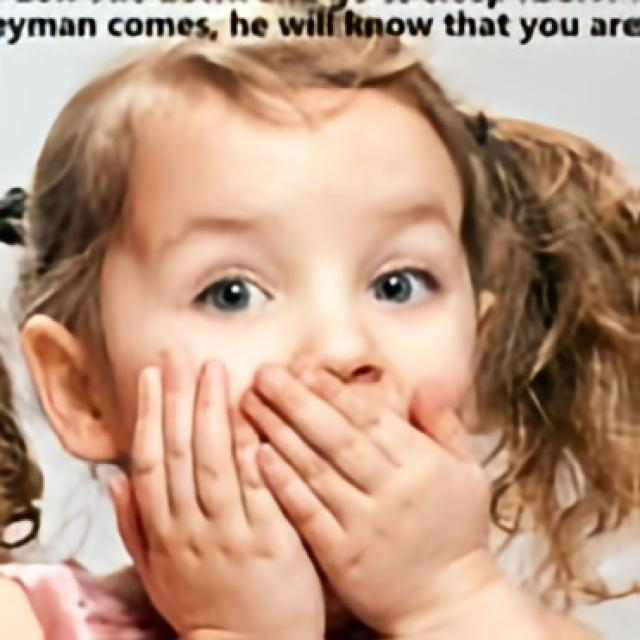surprise: (96, 90, 477, 630)
